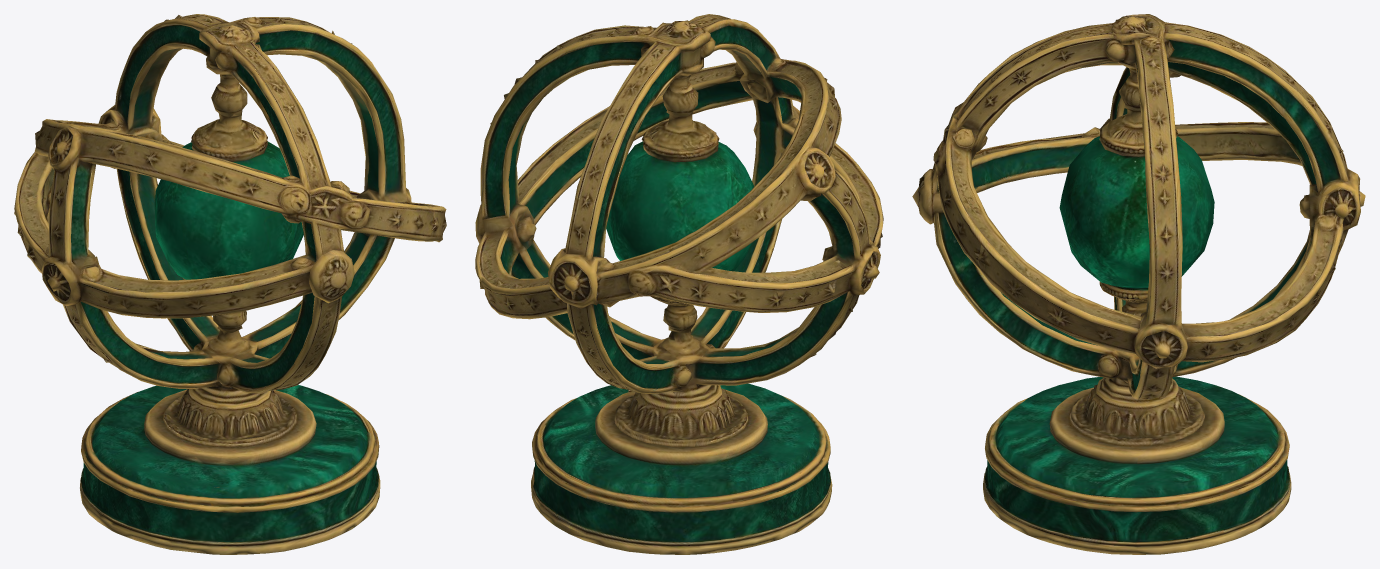
The model's file is relic_02_celestial_astrolabe-v50eUffx.glb.
3 views of the same model, side by side, from view 1: azimuth 30°, elevation 25°; view 2: azimuth 150°, elevation 25°; view 3: azimuth 270°, elevation 25° (orthographic).
Bounding box in the file's own units: 0.8436 × 1 × 0.8661.
Materials: 1 (1 with a texture image).
